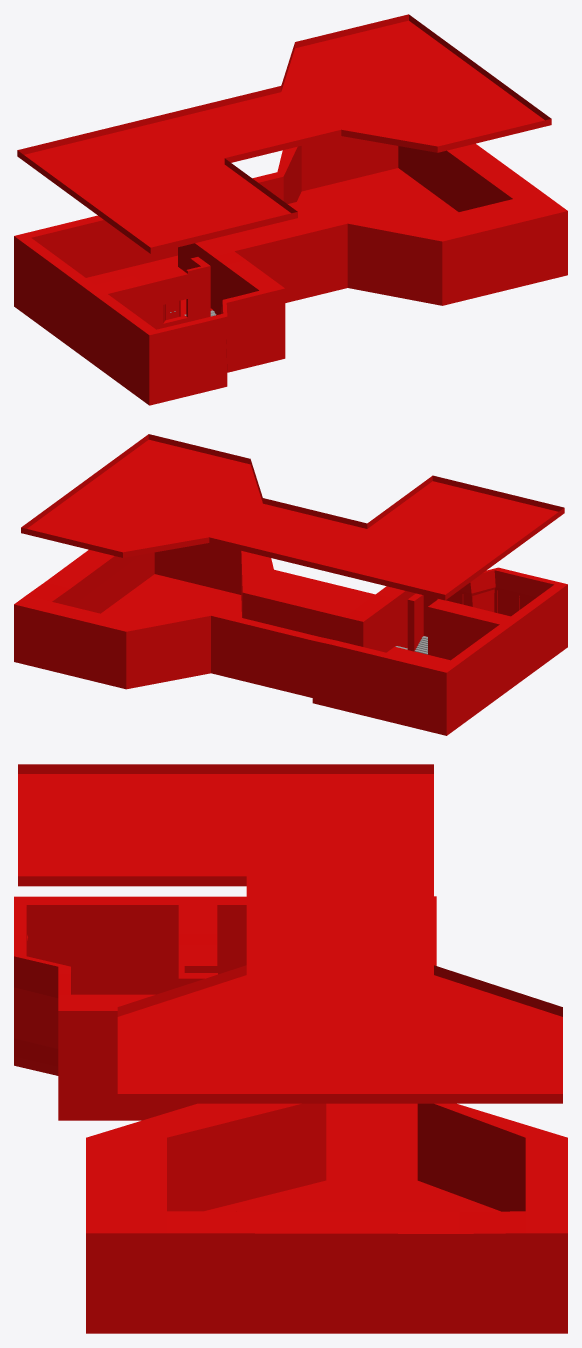
File: Outershell Museum insidev6.fbx
3 views of the same model, one above another, from view 1: azimuth 30°, elevation 25°; view 2: azimuth 150°, elevation 25°; view 3: azimuth 270°, elevation 25° (orthographic). The views are drawn at different scales.
Parts seen in each view (by area): view 1: pCube1, pCube22, pCube21; view 2: pCube1, pCube22, pCube21; view 3: pCube1, pCube22.
Boxes of the visible parts, x1,y1,x2,y2 form: pCube1: (14, 136, 567, 405); pCube22: (17, 14, 551, 253); pCube21: (186, 257, 210, 321); pCube1: (14, 543, 567, 735); pCube22: (21, 434, 564, 600); pCube21: (407, 593, 437, 651); pCube1: (14, 896, 567, 1333); pCube22: (18, 764, 562, 1103).
Bounding box in the file's own units: 73.3 × 24.81 × 51.04.
